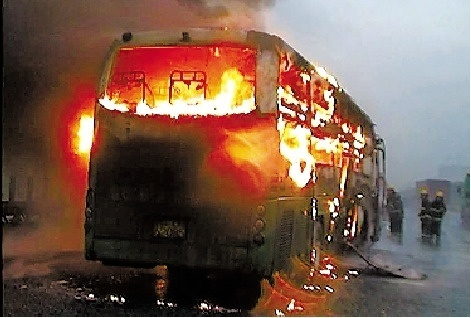fire: (274, 59, 368, 191), (90, 77, 258, 118), (73, 109, 95, 153)
